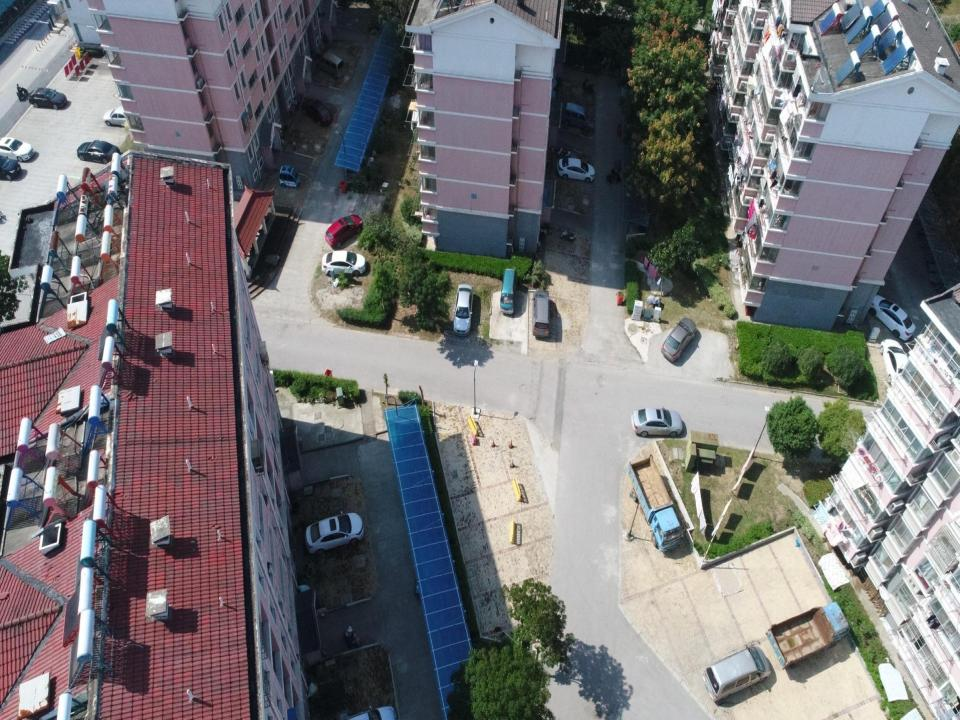car: (304, 513, 364, 555), (869, 294, 915, 340), (661, 318, 699, 363), (632, 406, 684, 438), (880, 339, 909, 394), (325, 211, 362, 249), (322, 249, 365, 279), (76, 140, 121, 163), (556, 157, 595, 183), (454, 283, 473, 336), (300, 98, 334, 126), (0, 137, 35, 164), (28, 87, 67, 111), (532, 289, 550, 338), (102, 106, 131, 128), (0, 156, 21, 180)
truck: (766, 602, 852, 670), (627, 454, 682, 552)
van: (702, 646, 770, 702), (563, 99, 591, 131), (316, 52, 345, 81), (500, 266, 517, 314)
